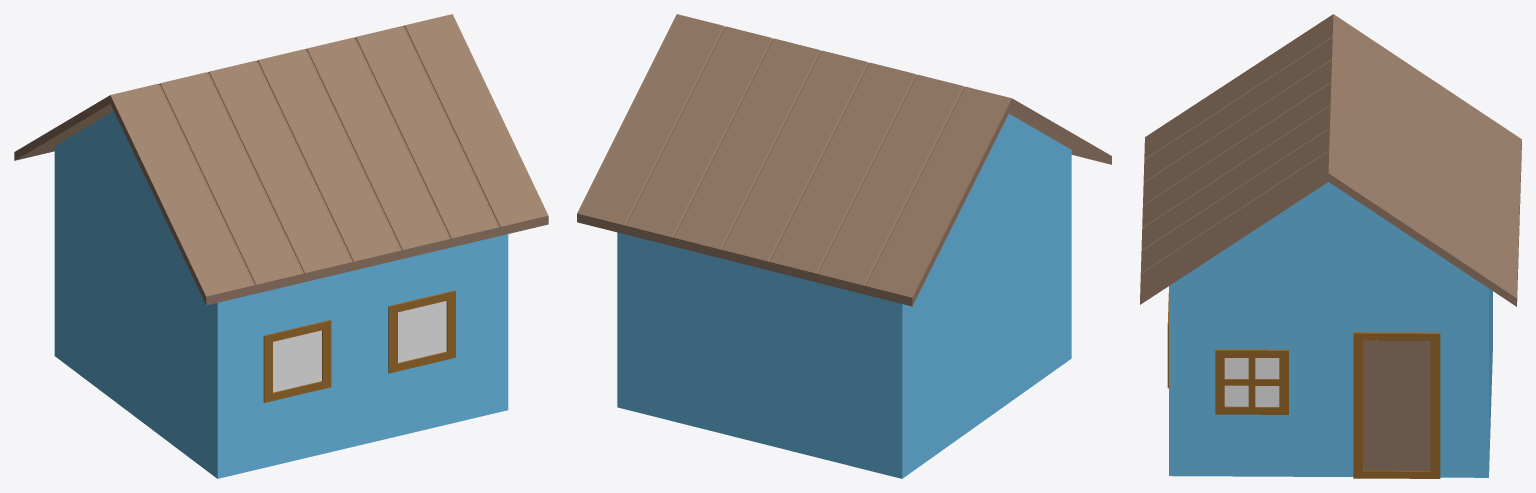
File: Casa.glb
3 views of the same model, side by side, from view 1: azimuth 30°, elevation 25°; view 2: azimuth 150°, elevation 25°; view 3: azimuth 270°, elevation 25° (orthographic). The views are drawn at different scales.
Parts seen in each view (by area): view 1: Simple House M; view 2: Simple House M; view 3: Simple House M.
Boxes of the visible parts, x1,y1,x2,y2 form: Simple House M: (14,14,548,478); Simple House M: (577,14,1111,478); Simple House M: (1140,14,1521,478).
Bounding box in the file's own units: 1.43 × 1.3 × 1.43.
